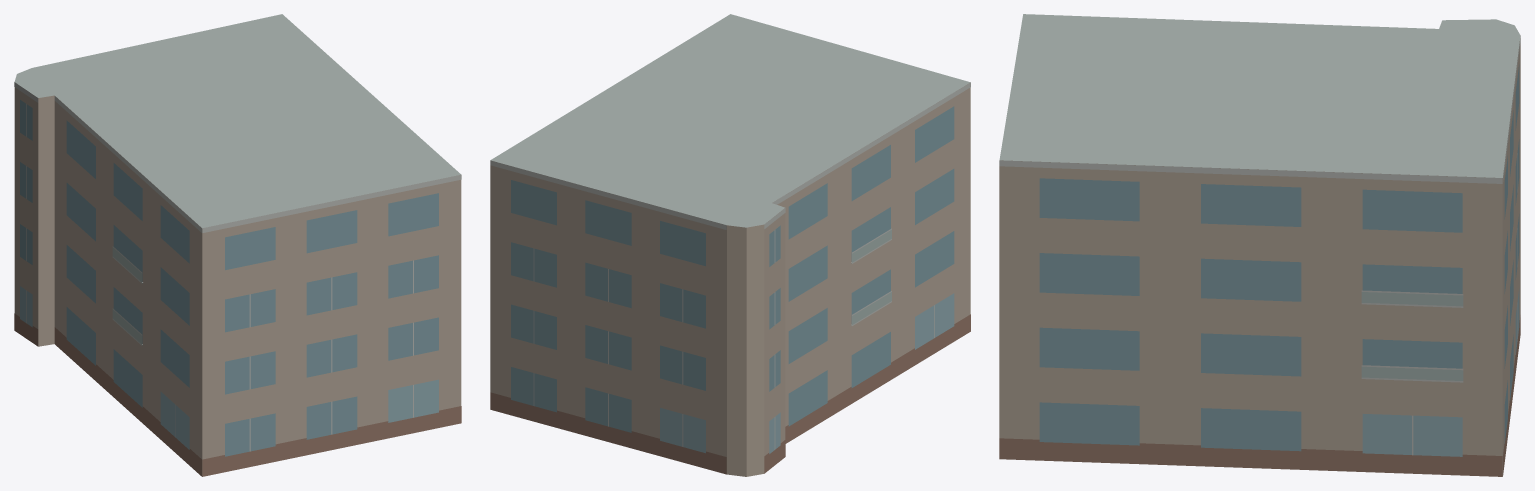
The model's file is survey-upis-32963441.glb.
3 views of the same model, side by side, from view 1: azimuth 30°, elevation 25°; view 2: azimuth 150°, elevation 25°; view 3: azimuth 270°, elevation 25° (orthographic). The views are drawn at different scales.
Parts seen in each view (by area): view 1: survey-upis-32963441.tmp; view 2: survey-upis-32963441.tmp; view 3: survey-upis-32963441.tmp.
Part boxes in pixels (left/top/right/bottom): survey-upis-32963441.tmp: left=14, top=14, right=461, bottom=476; survey-upis-32963441.tmp: left=490, top=14, right=970, bottom=476; survey-upis-32963441.tmp: left=999, top=14, right=1520, bottom=476.
Bounding box in the file's own units: 14.37 × 12.2 × 19.29.
